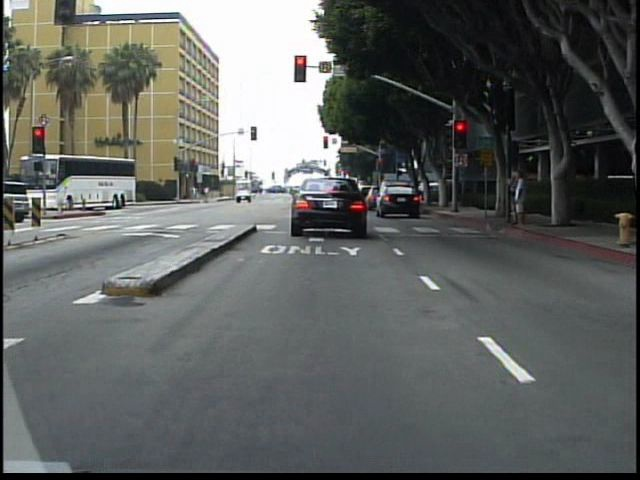person: (509, 169, 529, 230)
